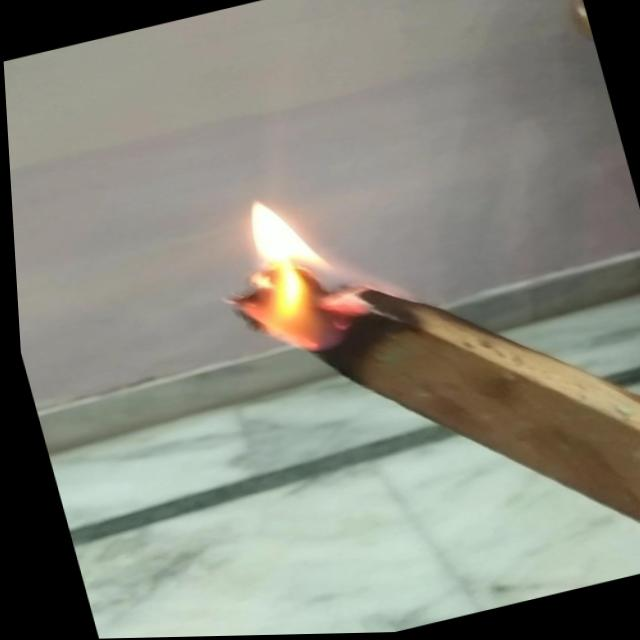fire: (167, 165, 428, 387)
